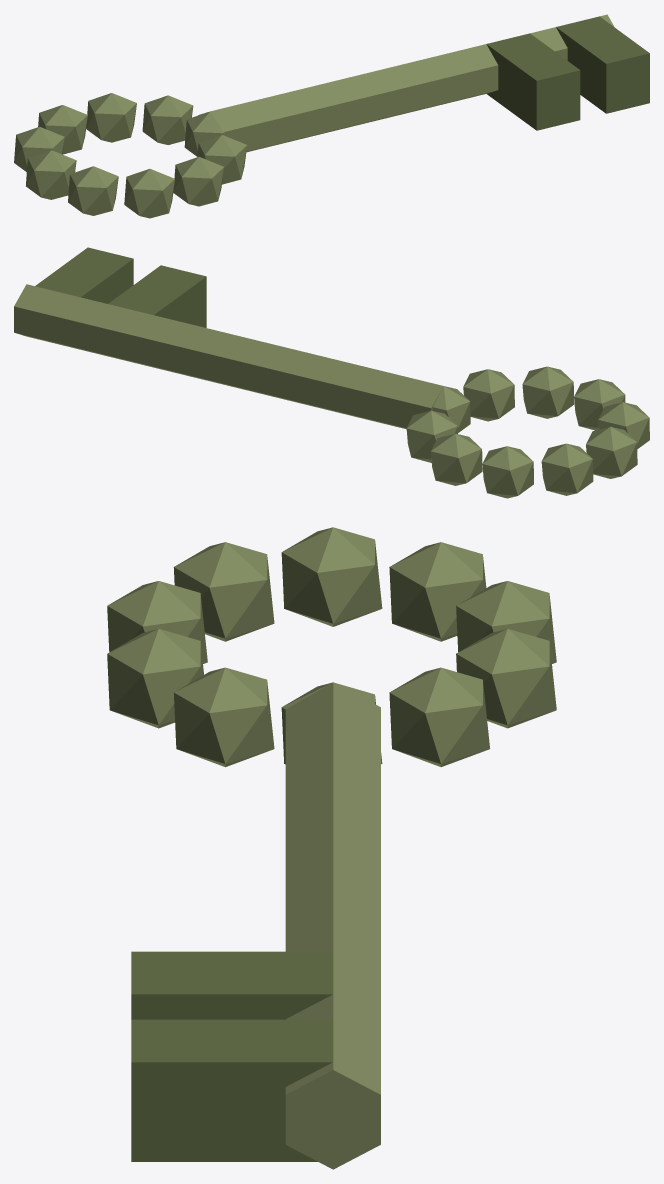
Rendered from drop_key.glb.
3 renders of one model, top to bottom at view 1: azimuth 30°, elevation 25°; view 2: azimuth 150°, elevation 25°; view 3: azimuth 270°, elevation 25°, orthographic. The views are drawn at different scales.
Visible parts, largest first — view 1: drop_key; view 2: drop_key; view 3: drop_key.
Boxes of the visible parts, x1,y1,x2,y2 form: drop_key: (14, 14, 649, 218); drop_key: (14, 247, 649, 498); drop_key: (107, 527, 556, 1169).
Size of the model in its own units: 0.2907 by 0.024 by 0.0981.
